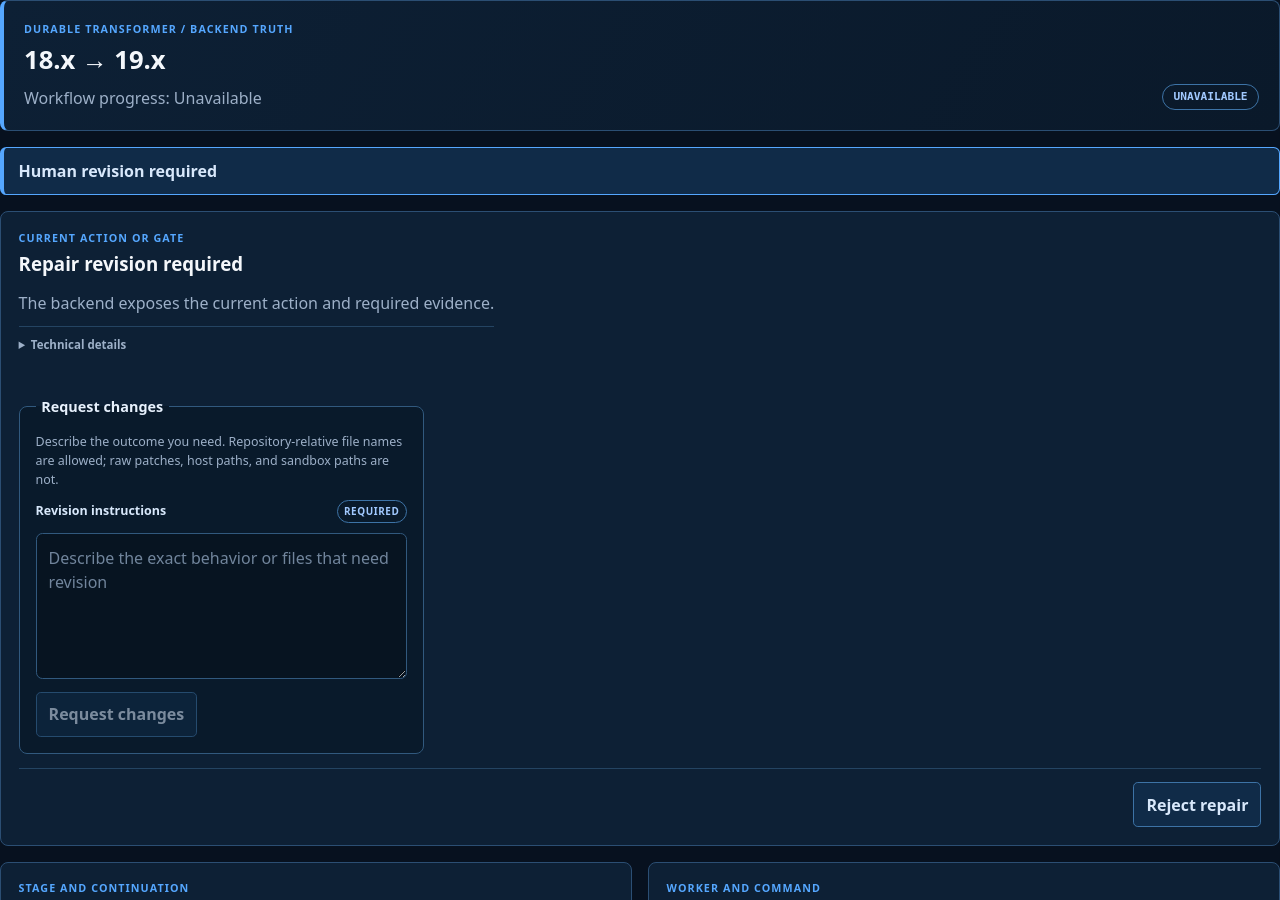
Test: TransformationPanel › shows structured repair validation details and correlation id
Type "Revise the affected configuration" into the text box labelled "Revision instructions" at (221, 606), box [36,533,407,679]
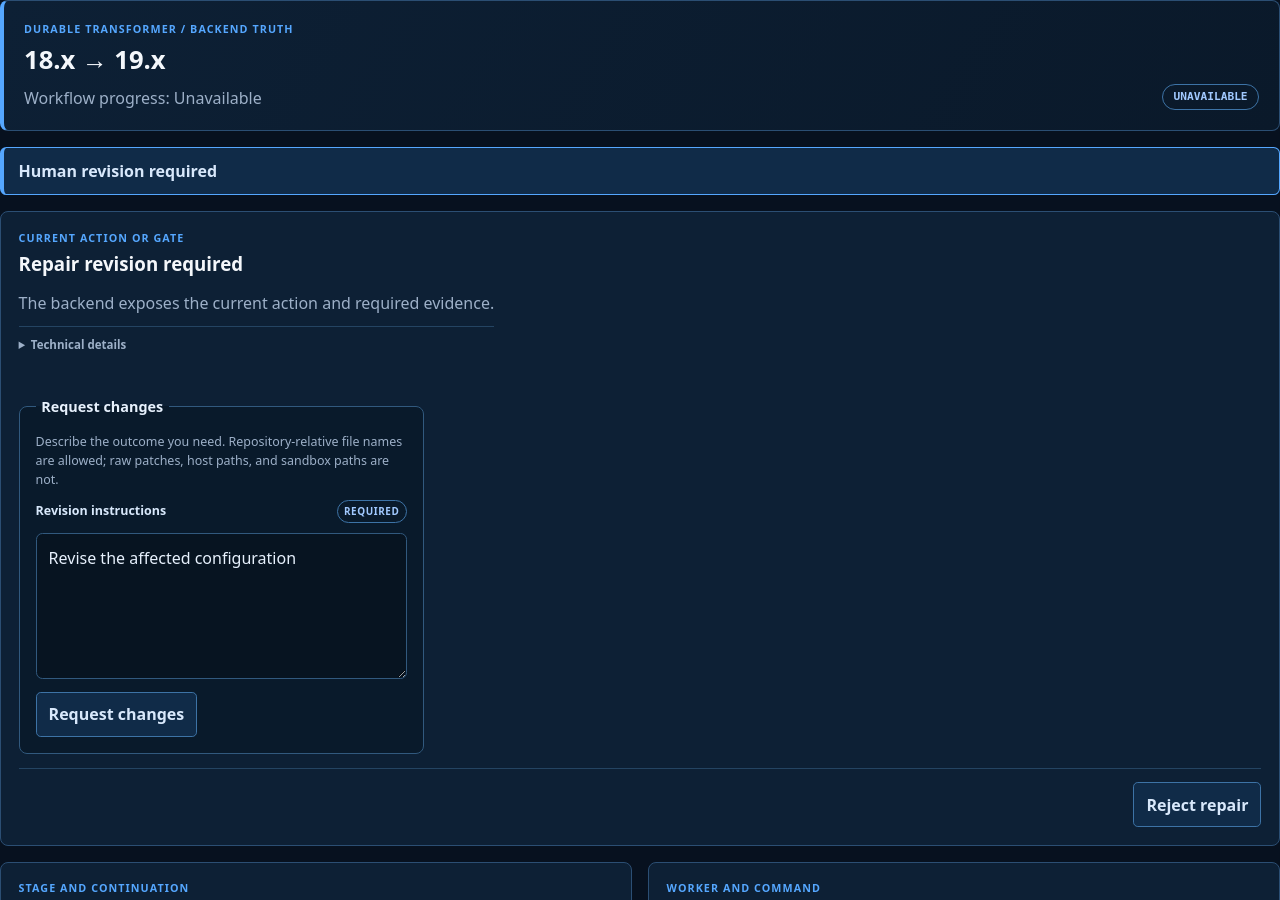
Click the button "Request changes" at (116, 714), box [36,692,197,737]
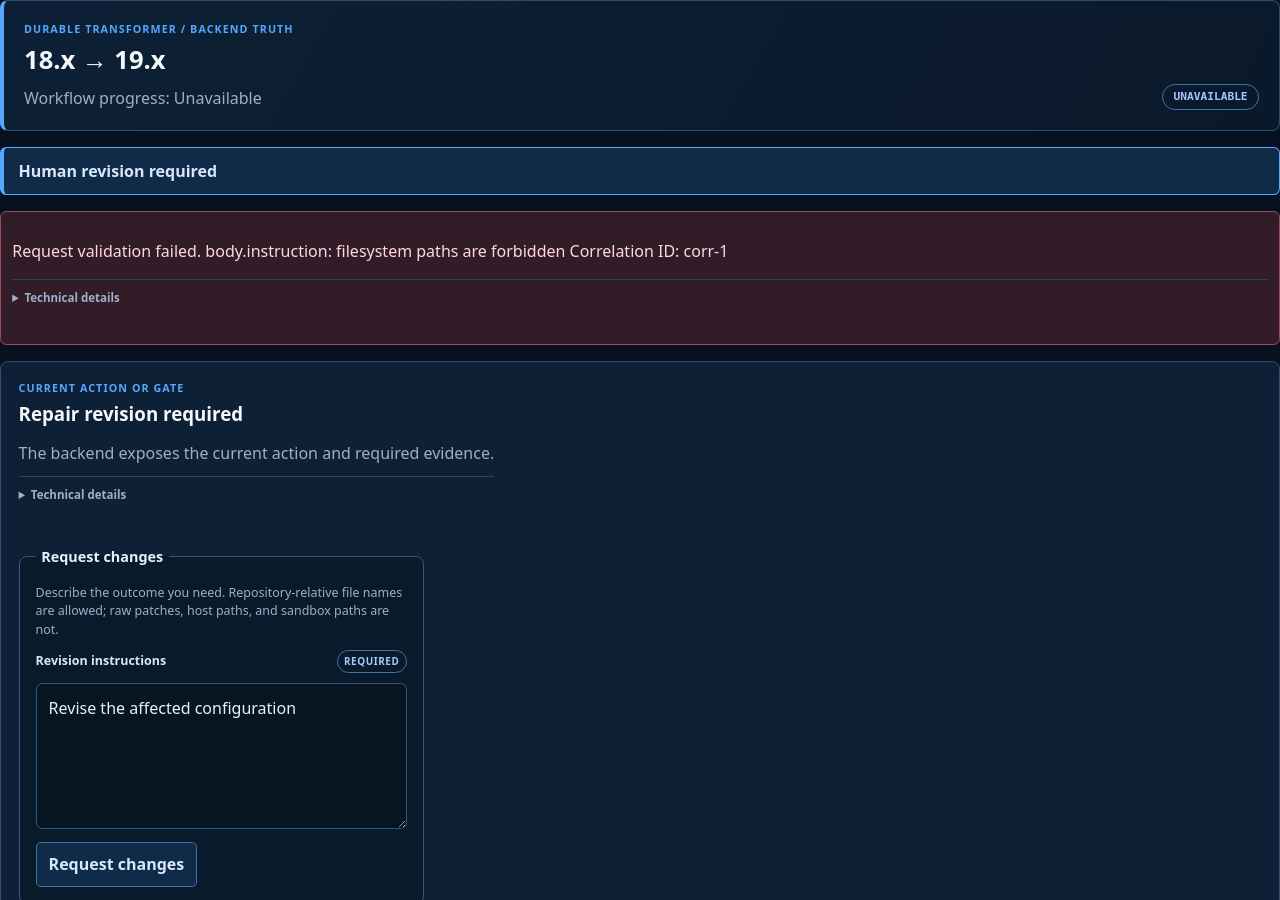
Result: the text "body.instruction: filesystem paths are forbidden" shows "Correlation ID: corr-1" at [12,240,728,262]
